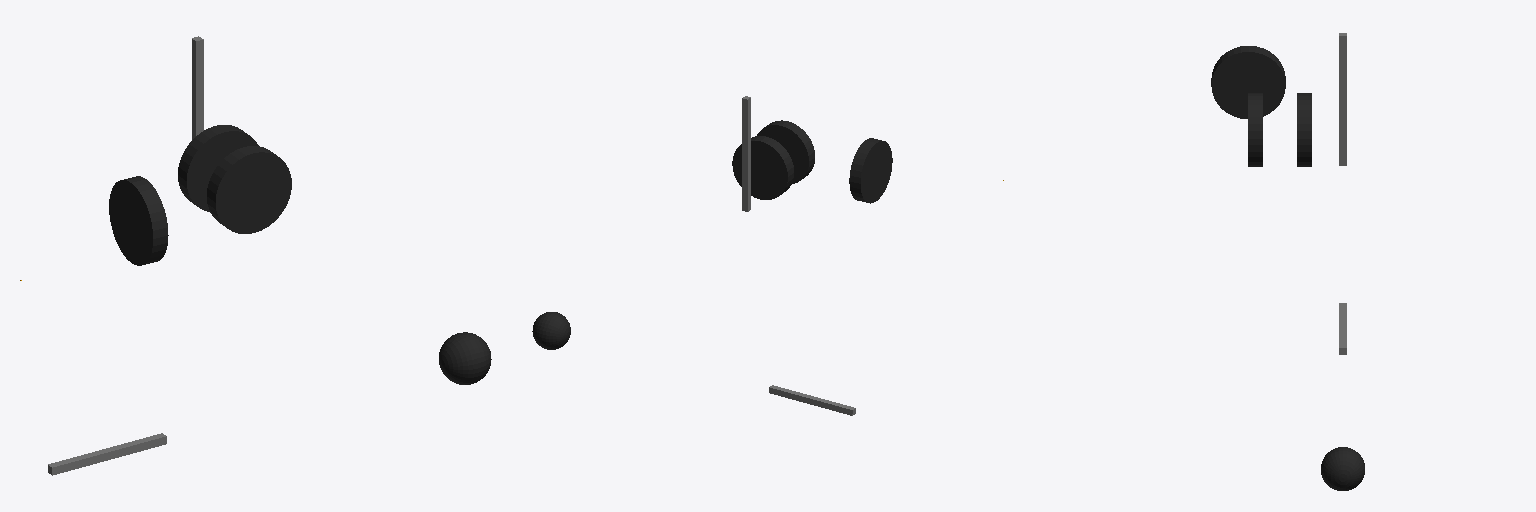
URDF robot description (b1_leg_description):
<?xml version="1.0" ?>
<!-- =================================================================================== -->
<!-- |    This document was autogenerated by xacro from robot.xacro                    | -->
<!-- |    EDITING THIS FILE BY HAND IS NOT RECOMMENDED                                 | -->
<!-- =================================================================================== -->
<robot name="b1_leg_description">
  <material name="grey">
    <color rgba="0.2 0.2 0.2 1.0"/>
  </material>
  <material name="silver">
    <color rgba="0.6980 0.7529 0.8392 1"/>
  </material>
  <material name="transparent_silver">
    <color rgba="0.75 0.75 0.75 0.3"/>
  </material>
  <link name="base">
    <inertial>
      <mass value="1e-6"/>
      <inertia ixx="1e-6" ixy="1e-6" ixz="1e-6" iyy="1e-6" iyz="1e-6" izz="1e-6"/>
    </inertial>
    <visual>
      <origin rpy="0 0 0" xyz="0 0 0"/>
      <geometry>
        <box size="0.001 0.001 0.001"/>
      </geometry>
    </visual>
  </link>
  <joint name="floating_base" type="fixed">
    <origin rpy="0 0 0" xyz="0 0 0"/>
    <parent link="base"/>
    <child link="trunk"/>
  </joint>
  <link name="trunk">
    <visual>
      <origin rpy="0 0 0" xyz="0 0 0"/>
      <geometry>
        <mesh filename="package://example-robot-data/robots/b1_description/meshes/trunk.dae" scale="1 1 1"/>
      </geometry>
      <material name="silver"/>
    </visual>
    <collision>
      <origin rpy="0 0 0" xyz="0 0 0"/>
      <geometry>
        <box size="0.647 0.3 0.15"/>
      </geometry>
    </collision>
    <inertial>
      <origin rpy="0 0 0" xyz="0.008987 0.002243 0.003013"/>
      <mass value="25"/>
      <inertia ixx="0.183142146" ixy="-0.001379002" ixz="-0.027956055" iyy="0.756327752" iyz="0.000193774" izz="0.783777558"/>
    </inertial>
  </link>
  

  <joint name="FL_hip_joint" type="revolute">
    <origin rpy="0 0 0" xyz="0.3455 0.072 0"/>
    <parent link="trunk"/>
    <child link="FL_hip"/>
    <axis xyz="1 0 0"/>
    <dynamics damping="0" friction="0"/>
    <limit effort="91.0035" lower="-0.75" upper="0.75" velocity="19.69"/>
  </joint>
  <joint name="FL_hip_rotor_joint" type="fixed">
    <origin rpy="0 0 0" xyz="0.1955 0.072 0"/>
    <parent link="trunk"/>
    <child link="FL_hip_rotor"/>
  </joint>
  <link name="FL_hip">
    <visual>
      <origin rpy="0 0 0" xyz="0 0 0"/>
      <geometry>
        <mesh filename="package://example-robot-data/robots/b1_description/meshes/hip.dae" scale="1 1 1"/>
      </geometry>
      <material name="silver"/>
    </visual>
    <collision>
      <origin rpy="1.5707963267948966 0 0" xyz="0 0.12675 0"/>
      <geometry>
        <cylinder length="0.04" radius="0.09"/>
      </geometry>
    </collision>
    <inertial>
      <origin rpy="0 0 0" xyz="-0.020298 0.009758 0.000109"/>
      <mass value="2.1"/>
      <inertia ixx="0.00406608" ixy="-0.000288071" ixz="-4.371e-06" iyy="0.008775259" iyz="1.811e-06" izz="0.006060348"/>
    </inertial>
  </link>
  <link name="FL_hip_rotor">
    <visual>
      <origin rpy="0 1.5707963267948966 0" xyz="0 0 0"/>
      <geometry>
        <cylinder length="0.02" radius="0.05"/>
      </geometry>
      <material name="grey"/>
    </visual>
    <collision>
      <origin rpy="0 1.5707963267948966 0" xyz="0 0 0"/>
      <geometry>
        <cylinder length="0.02" radius="0.05"/>
      </geometry>
    </collision>
    <inertial>
      <origin rpy="0 0 0" xyz="0.0 0.0 0.0"/>
      <mass value="0.199"/>
      <inertia ixx="0.00039249" ixy="0.0" ixz="0.0" iyy="0.000219397" iyz="0.0" izz="0.000219397"/>
    </inertial>
  </link>
  <joint name="FL_thigh_joint" type="revolute">
    <origin rpy="0 0 0" xyz="0 0.12675 0"/>
    <parent link="FL_hip"/>
    <child link="FL_thigh"/>
    <axis xyz="0 1 0"/>
    <dynamics damping="0" friction="0"/>
    <limit effort="93.33" lower="-1.0" upper="3.5" velocity="23.32"/>
  </joint>
  <joint name="FL_thigh_rotor_joint" type="fixed">
    <origin rpy="0 0 0" xyz="0.0 0.00935 0"/>
    <parent link="FL_hip"/>
    <child link="FL_thigh_rotor"/>
  </joint>
  <link name="FL_thigh">
    <visual>
      <origin rpy="0 0 0" xyz="0 0 0"/>
      <geometry>
        <mesh filename="package://example-robot-data/robots/b1_description/meshes/thigh.dae" scale="1 1 1"/>
      </geometry>
      <material name="transparent_silver"/>
    </visual>
    <collision>
      <origin rpy="0 1.5707963267948966 0" xyz="0 0 -0.175"/>
      <geometry>
        <box size="0.35 0.05 0.08"/>
      </geometry>
    </collision>
    <inertial>
      <origin rpy="0 0 0" xyz="-0.000235 -0.028704 -0.054169"/>
      <mass value="3.934"/>
      <inertia ixx="0.044459086" ixy="0.000128738" ixz="-0.002343913" iyy="0.046023457" iyz="0.006032996" izz="0.008696078"/>
    </inertial>
  </link>
  <link name="FL_thigh_rotor">
    <visual>
      <origin rpy="1.5707963267948966 0 0" xyz="0 0 0"/>
      <geometry>
        <cylinder length="0.02" radius="0.05"/>
      </geometry>
      <material name="grey"/>
    </visual>
    <collision>
      <origin rpy="1.5707963267948966 0 0" xyz="0 0 0"/>
      <geometry>
        <cylinder length="0.02" radius="0.05"/>
      </geometry>
    </collision>
    <inertial>
      <origin rpy="0 0 0" xyz="0.0 0.0 0.0"/>
      <mass value="0.266"/>
      <inertia ixx="0.000485657" ixy="0.0" ixz="0.0" iyy="0.00091885" iyz="0.0" izz="0.000485657"/>
    </inertial>
  </link>
  <joint name="FL_calf_joint" type="revolute">
    <origin rpy="0 0 0" xyz="0 0 -0.35"/>
    <parent link="FL_thigh"/>
    <child link="FL_calf"/>
    <axis xyz="0 1 0"/>
    <dynamics damping="0" friction="0"/>
    <limit effort="140" lower="-2.6" upper="-0.6" velocity="15.55"/>
  </joint>
  <joint name="FL_calf_rotor_joint" type="fixed">
    <origin rpy="0 0 0" xyz="0.0 -0.0519 0"/>
    <parent link="FL_thigh"/>
    <child link="FL_calf_rotor"/>
  </joint>
  <link name="FL_calf">
    <visual>
      <origin rpy="0 0 0" xyz="0 0 0"/>
      <geometry>
        <mesh filename="package://example-robot-data/robots/b1_description/meshes/calf.dae" scale="1 1 1"/>
      </geometry>
      <material name="grey"/>
    </visual>
    <collision>
      <origin rpy="0 1.5707963267948966 0" xyz="0 0 -0.175"/>
      <geometry>
        <box size="0.35 0.04 0.05"/>
      </geometry>
    </collision>
    <inertial>
      <origin rpy="0 0 0" xyz="0.005237 0.0 -0.202805"/>
      <mass value="0.857"/>
      <inertia ixx="0.015011003" ixy="5.2e-08" ixz="0.000250042" iyy="0.015159462" iyz="4.61e-07" izz="0.000375749"/>
    </inertial>
  </link>
  <!-- close loop -->
  <!-- position of frame calf pivot -->
  <link name="calf_loop_joint"/>
  <joint name="calf_loop_joint" type="fixed">
    <parent link="FL_calf"/>
    <child link="calf_loop_joint"/>
    <origin xyz="0.00322198 0 0.04287912" rpy="0 0 0"/>
  </joint>
  <!-- bar 1 inertial properties -->
  <link name="loop_1_link">
    <visual>
      <origin xyz="0 0 0.075" rpy="0 0 0"/>  <!-- center of box -->
      <geometry>
        <box size="0.01 0.01 0.15"/> <!-- 2cm x 2cm x 15cm bar -->
      </geometry>
      <material name="grey">
        <color rgba="0.5 0.5 0.5 1.0"/>
      </material>
    </visual>
    <inertial>
      <origin xyz="0 0 0.075" rpy="0 0 0"/>
      <mass value="1.0"/>
      <inertia 
        ixx="1.0" iyy="1.0" izz="1.0"
        ixy="0.0" ixz="0.0" iyz="0.0"/>
    </inertial>
  </link>
  <!-- Revolute joint connecting to calf_loop_joint -->
  <joint name="loop_1_calf" type="revolute">
    <parent link="calf_loop_joint"/>
    <child link="loop_1_link"/>
    <origin xyz="0 0 0" rpy="0 0 0"/>
    <axis xyz="0 1 0"/> <!-- rotation around Y axis -->
    <limit effort="10" velocity="5" lower="-3.14" upper="3.14"/>
  </joint>
  <!-- Fixed joint at the other end of the bar -->
  <joint name="loop_1_bar" type="fixed">
    <parent link="loop_1_link"/>
    <child link="loop_1_bar"/>
    <origin xyz="0 0 0.15" rpy="0 0 0"/> <!-- 15cm from base -->
  </joint>
  <!-- Dummy child link to mark the bar end -->
  <link name="loop_1_bar"/>
  <!-- position of frame actuation after reduction -->
  <link name="reduction_loop_joint"/>
  <joint name="reduction_loop_joint" type="fixed">
    <parent link="FL_thigh"/>
    <child link="reduction_loop_joint"/>
    <origin xyz="0 0 -0.0515" rpy="0 0 0"/>
  </joint>
  <!-- bar actuated inertial properties -->
  <link name="loop_bar_link">
    <visual>
      <origin xyz="0 0 0.0215" rpy="0 0 0"/>  <!-- center of box -->
      <geometry>
        <box size="0.01 0.01 0.043"/> <!-- 2cm x 2cm x 4.3cm bar -->
      </geometry>
      <material name="grey">
        <color rgba="0.5 0.5 0.5 1.0"/>
      </material>
    </visual>
    <inertial>
      <origin xyz="0 0 0.00215" rpy="0 0 0"/>
      <mass value="1.0"/>
      <inertia 
        ixx="1.0" iyy="1.0" izz="1.0"
        ixy="0.0" ixz="0.0" iyz="0.0"/>
    </inertial>
  </link>
  <!-- Revolute joint connecting to reduction_loop_joint -->
  <joint name="loop_bar_act" type="revolute">
    <parent link="reduction_loop_joint"/>
    <child link="loop_bar_link"/>
    <origin xyz="0 0 0" rpy="0 0 0"/>
    <axis xyz="0 1 0"/> <!-- rotation around Y axis -->
    <limit effort="10" velocity="5" lower="-3.14" upper="3.14"/>
  </joint>
  <!-- Fixed joint at the other end of the bar -->
  <joint name="loop_act_bar" type="fixed">
    <parent link="loop_bar_link"/>
    <child link="loop_act_bar"/>
    <origin xyz="0 0 0.043" rpy="0 0 0"/> <!-- 15cm from base -->
  </joint>
  <!-- Dummy child link to mark the bar end -->
  <link name="loop_act_bar"/>



    <!-- bar 2 inertial properties -->
  <link name="loop_2_link">
    <visual>
      <origin xyz="0 0 0.075" rpy="0 0 0"/>  <!-- center of box -->
      <geometry>
        <box size="0.01 0.01 0.15"/> <!-- 2cm x 2cm x 15cm bar -->
      </geometry>
      <material name="grey">
        <color rgba="0.5 0.5 0.5 1.0"/>
      </material>
    </visual>
    <inertial>
      <origin xyz="0 0 0.075" rpy="0 0 0"/>
      <mass value="1.0"/>
      <inertia 
        ixx="1.0" iyy="1.0" izz="1.0"
        ixy="0.0" ixz="0.0" iyz="0.0"/>
    </inertial>
  </link>
  <!-- Revolute joint connecting to calf_loop_joint -->
  <joint name="loop_2_act" type="revolute">
    <parent link="loop_act_bar"/>
    <child link="loop_2_link"/>
    <origin xyz="0 0 0" rpy="0 0 0"/>
    <axis xyz="0 1 0"/> <!-- rotation around Y axis -->
    <limit effort="10" velocity="5" lower="-3.14" upper="3.14"/>
  </joint>
  <!-- Fixed joint at the other end of the bar -->
  <joint name="loop_2_bar" type="fixed">
    <parent link="loop_2_link"/>
    <child link="loop_2_bar"/>
    <origin xyz="0 0 0.15" rpy="0 0 0"/> <!-- 15cm from base -->
  </joint>
  <!-- Dummy child link to mark the bar end -->
  <link name="loop_2_bar"/>
  <!-- end of close loop -->
  <link name="FL_calf_rotor">
    <visual>
      <origin rpy="1.5707963267948966 0 0" xyz="0 0 0"/>
      <geometry>
        <cylinder length="0.02" radius="0.05"/>
      </geometry>
      <material name="grey"/>
    </visual>
    <collision>
      <origin rpy="1.5707963267948966 0 0" xyz="0 0 0"/>
      <geometry>
        <cylinder length="0.02" radius="0.05"/>
      </geometry>
    </collision>
    <inertial>
      <origin rpy="0 0 0" xyz="0.0 0.0 0.0"/>
      <mass value="0.266"/>
      <inertia ixx="0.000485657" ixy="0.0" ixz="0.0" iyy="0.00091885" iyz="0.0" izz="0.000485657"/>
    </inertial>
  </link>
  <joint name="FL_foot_fixed" type="fixed">
    <origin rpy="0 0 0" xyz="0 0 -0.35"/>
    <parent link="FL_calf"/>
    <child link="FL_foot"/>
  </joint>
  <link name="FL_foot">
    <visual>
      <origin rpy="0 0 0" xyz="0 0 0"/>
      <geometry>
        <sphere radius="0.03"/>
      </geometry>
      <material name="grey"/>
    </visual>
    <collision>
      <origin rpy="0 0 0" xyz="0 0 0"/>
      <geometry>
        <sphere radius="0.04"/>
      </geometry>
    </collision>
    <inertial>
      <mass value="0.05"/>
      <inertia ixx="3.2000000000000005e-05" ixy="0.0" ixz="0.0" iyy="3.2000000000000005e-05" iyz="0.0" izz="3.2000000000000005e-05"/>
    </inertial>
  </link>
  <transmission name="FL_hip_tran">
    <type>transmission_interface/SimpleTransmission</type>
    <joint name="FL_hip_joint">
      <hardwareInterface>hardware_interface/EffortJointInterface</hardwareInterface>
    </joint>
    <actuator name="FL_hip_motor">
      <hardwareInterface>hardware_interface/EffortJointInterface</hardwareInterface>
      <mechanicalReduction>1</mechanicalReduction>
    </actuator>
  </transmission>
  <transmission name="FL_thigh_tran">
    <type>transmission_interface/SimpleTransmission</type>
    <joint name="FL_thigh_joint">
      <hardwareInterface>hardware_interface/EffortJointInterface</hardwareInterface>
    </joint>
    <actuator name="FL_thigh_motor">
      <hardwareInterface>hardware_interface/EffortJointInterface</hardwareInterface>
      <mechanicalReduction>1</mechanicalReduction>
    </actuator>
  </transmission>
  <transmission name="FL_calf_tran">
    <type>transmission_interface/SimpleTransmission</type>
    <joint name="FL_calf_joint">
      <hardwareInterface>hardware_interface/EffortJointInterface</hardwareInterface>
    </joint>
    <actuator name="FL_calf_motor">
      <hardwareInterface>hardware_interface/EffortJointInterface</hardwareInterface>
      <mechanicalReduction>1</mechanicalReduction>
    </actuator>
  </transmission>
  <!-- <xacro:stairs stairs="15" xpos="0" ypos="2.0" zpos="0" /> -->
</robot>

--- Render facts (derived) ---
The picture shows the robot from 3 angles, left to right: view 1: azimuth 30°, elevation 25°; view 2: azimuth 150°, elevation 25°; view 3: azimuth 270°, elevation 25°; orthographic projection.
Robot: b1_leg_description — 17 links, 16 joints (6 revolute, 10 fixed); root link base; default pose: all joints at 0 but 1 set to mid-range because 0 is outside their limits (FL_calf_joint = -1.6).
Links seen in each view (by area): view 1: FL_thigh_rotor, FL_hip_rotor, FL_calf_rotor, FL_foot, loop_1_link, loop_2_link; view 2: FL_calf_rotor, FL_hip_rotor, FL_thigh_rotor, FL_foot, loop_2_link, loop_1_link; view 3: FL_hip_rotor, FL_foot, FL_thigh_rotor, FL_calf_rotor, loop_2_link.
Boxes of the visible links, bbox=[...] form: FL_thigh_rotor: bbox=[207, 146, 291, 233]; FL_hip_rotor: bbox=[109, 176, 168, 265]; FL_calf_rotor: bbox=[178, 125, 258, 212]; FL_foot: bbox=[439, 332, 491, 384]; loop_1_link: bbox=[48, 433, 166, 475]; loop_2_link: bbox=[192, 36, 203, 139]; FL_calf_rotor: bbox=[732, 136, 793, 199]; FL_hip_rotor: bbox=[849, 138, 892, 203]; FL_thigh_rotor: bbox=[757, 120, 814, 183]; FL_foot: bbox=[532, 312, 570, 349]; loop_2_link: bbox=[742, 96, 750, 186]; loop_1_link: bbox=[769, 385, 855, 415]; FL_hip_rotor: bbox=[1211, 46, 1285, 118]; FL_foot: bbox=[1321, 447, 1364, 490]; FL_thigh_rotor: bbox=[1248, 93, 1262, 166]; FL_calf_rotor: bbox=[1297, 93, 1311, 166]; loop_2_link: bbox=[1339, 33, 1346, 136].
Bounding box of the posed robot: 0.7258 × 0.2292 × 0.5113 m (x, y, z).
Meshes: 4 distinct files referenced, 0 mesh visuals loaded (none loaded); not drawn: 4 (reference not matched to a file when rendering).
